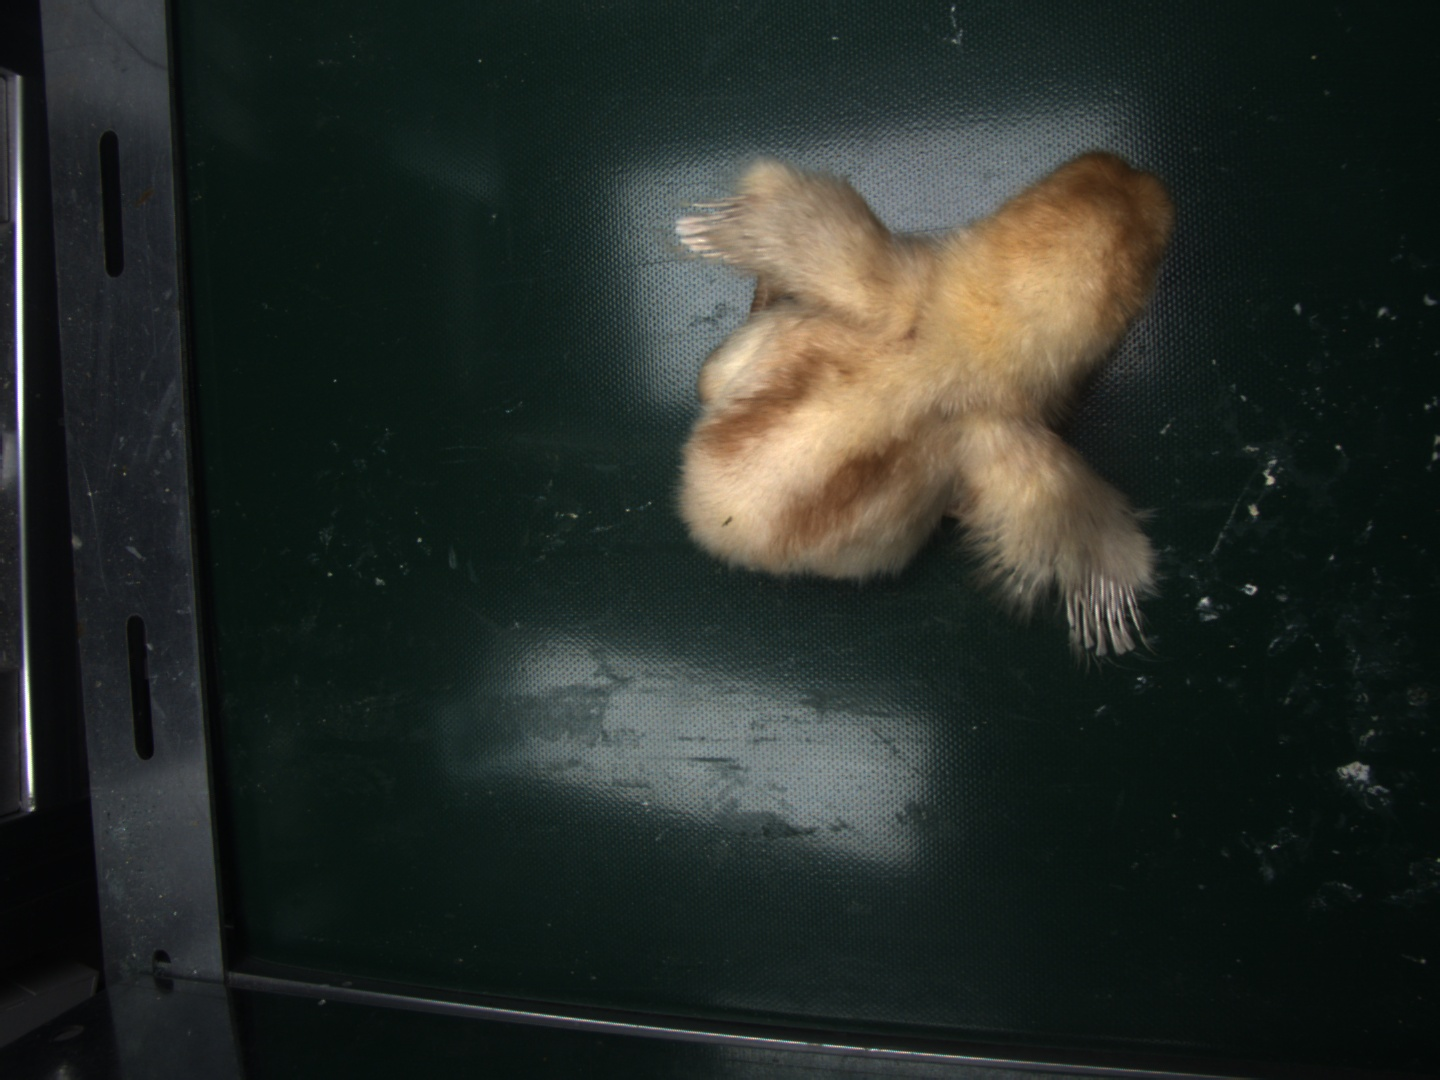female: (1065, 579, 1152, 656)
